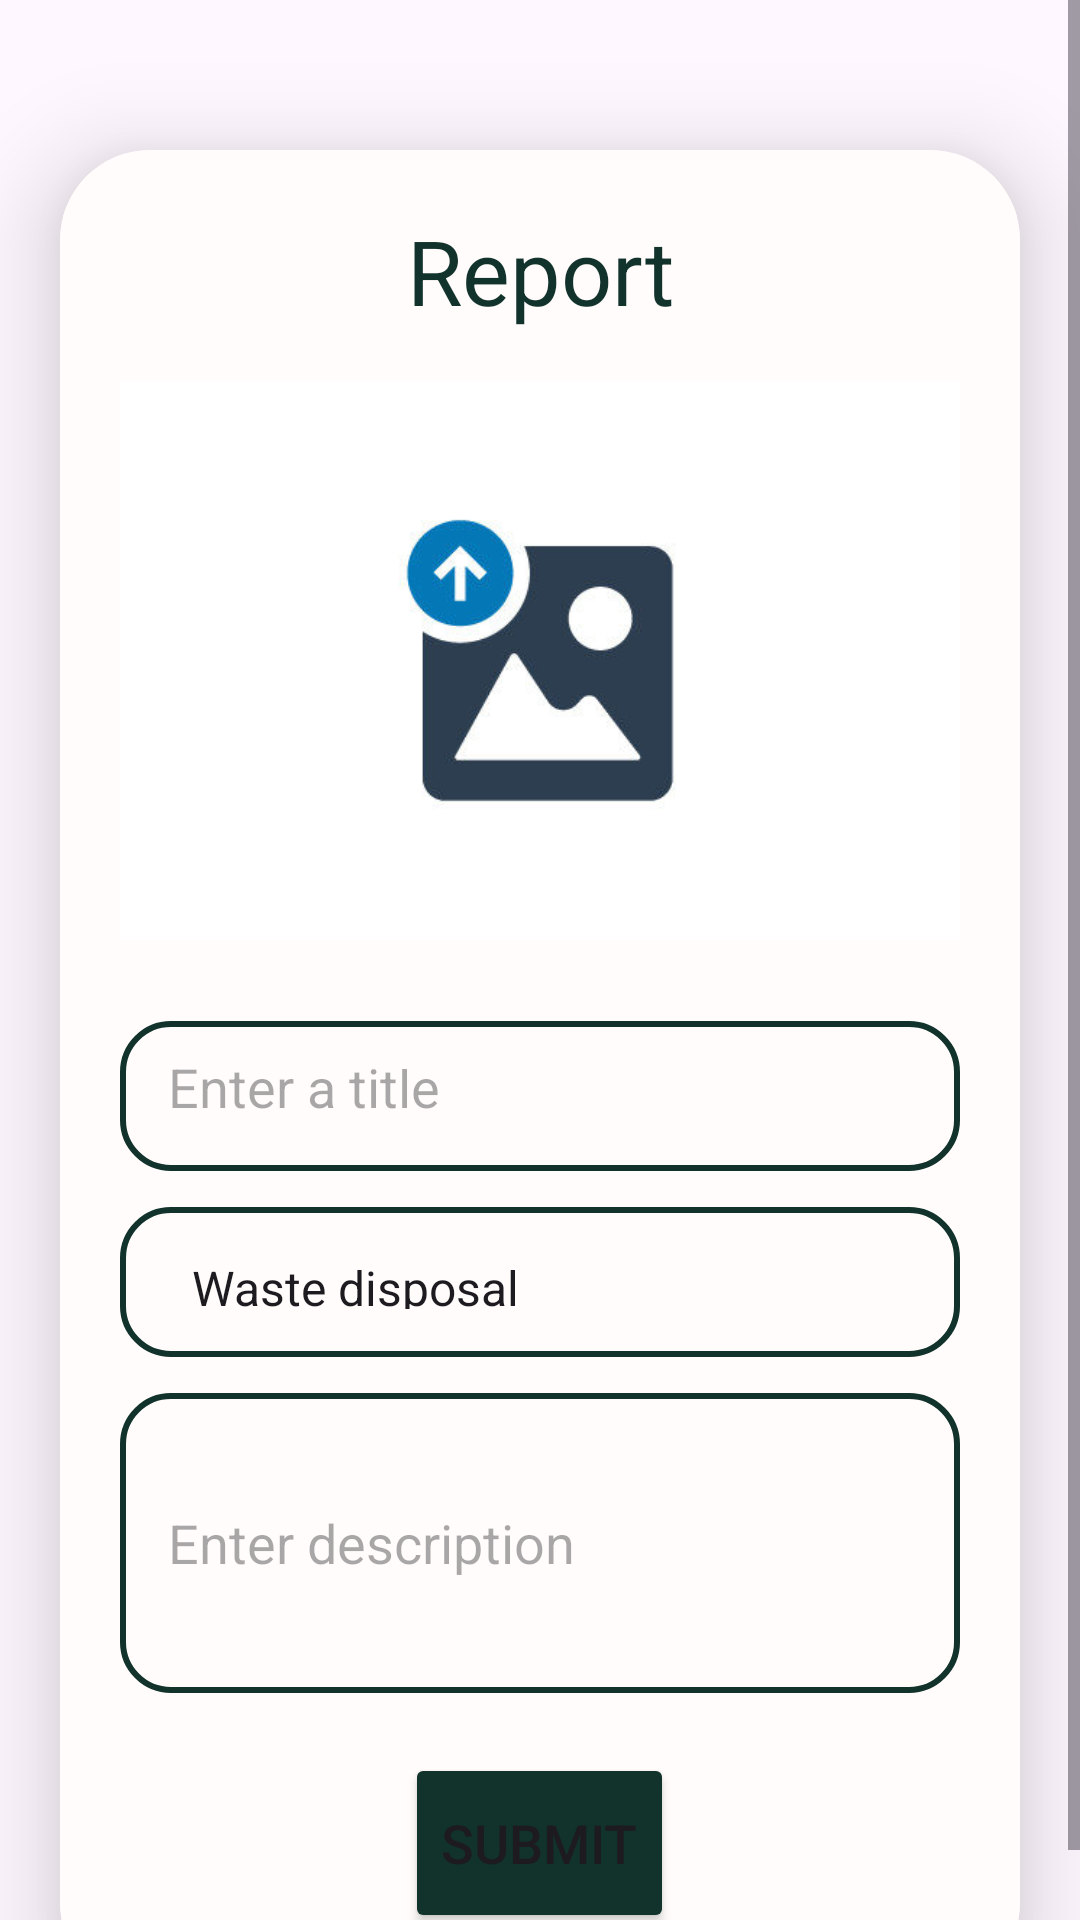

Locate icon controls on the screen. Image size 1080x1920, boxes as rect(x1, y1, x2, y2).
upload: rect(406, 519, 674, 802)
